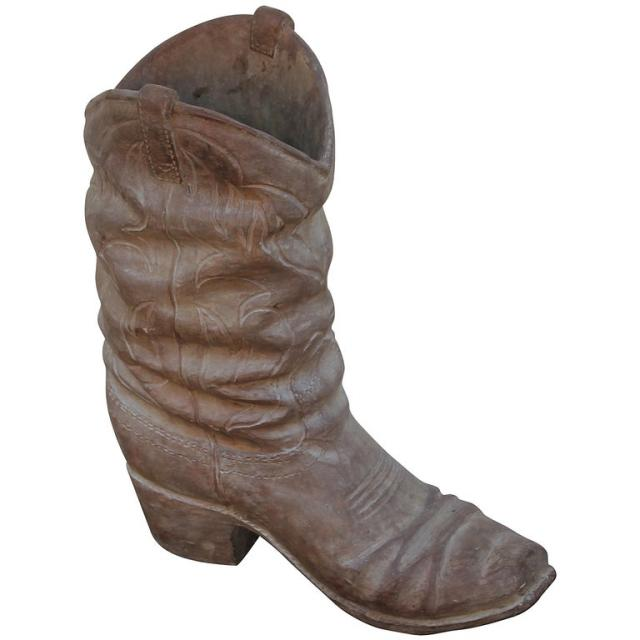boot: (46, 9, 568, 635)
